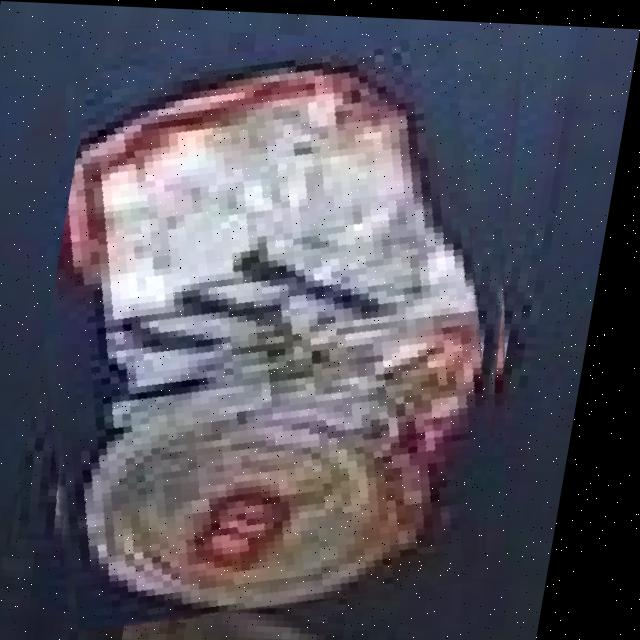litter: (19, 24, 573, 629)
